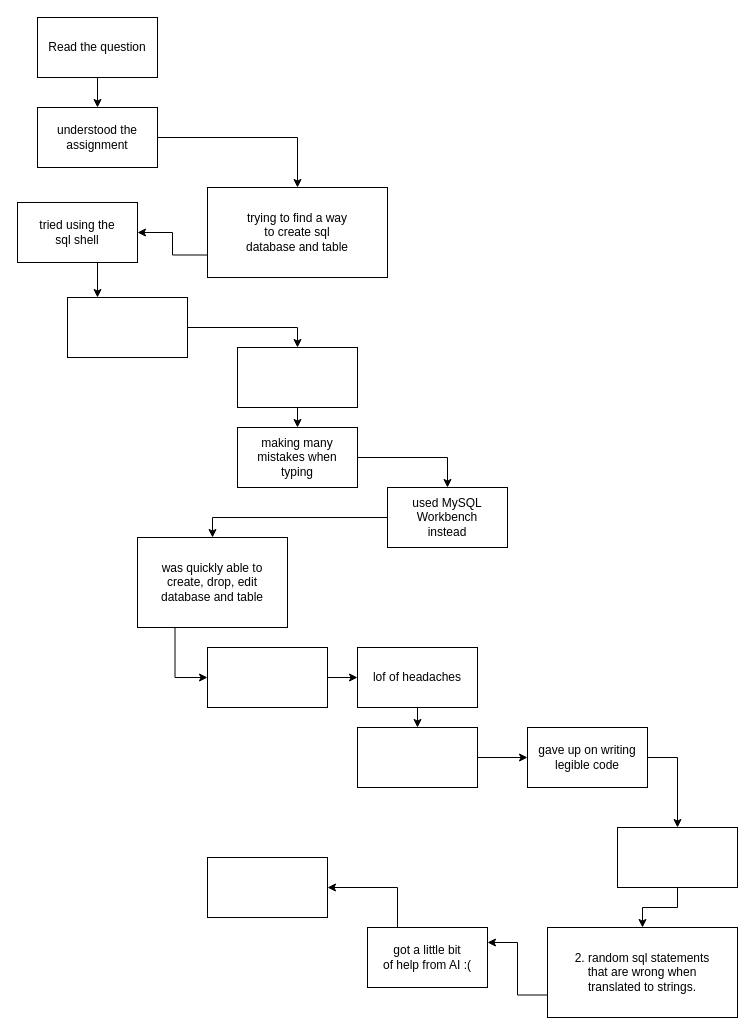
The diagram is 755 pixels wide and 1035 high, and some of its shapes have lost their labels. The shapes that lost their labels are listed below. From the top down, each one's box as (x1, y1, x2, y2) in pixels, then its label:
(66, 296, 188, 358): was not working the intended way
(236, 346, 358, 408): used powershell to get into sql
(206, 646, 328, 708): spening 1 week to write with jdbc
(356, 726, 478, 788): 1. clean code
(616, 826, 738, 888): fixed code a bit. added a lot of helper methods
(206, 856, 328, 918): finally got create, update, and get user working
